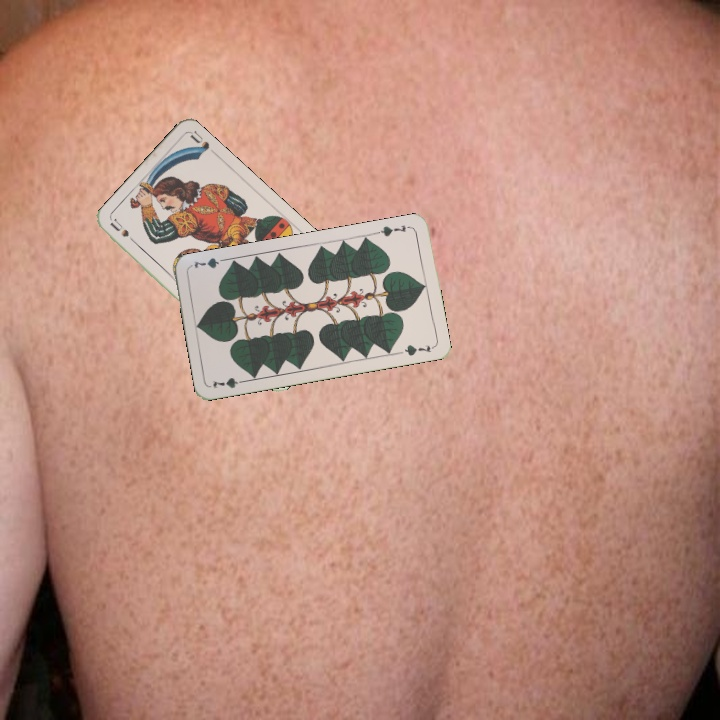G7: (209, 373, 249, 391), (373, 221, 413, 239)
SU: (106, 216, 141, 249)
